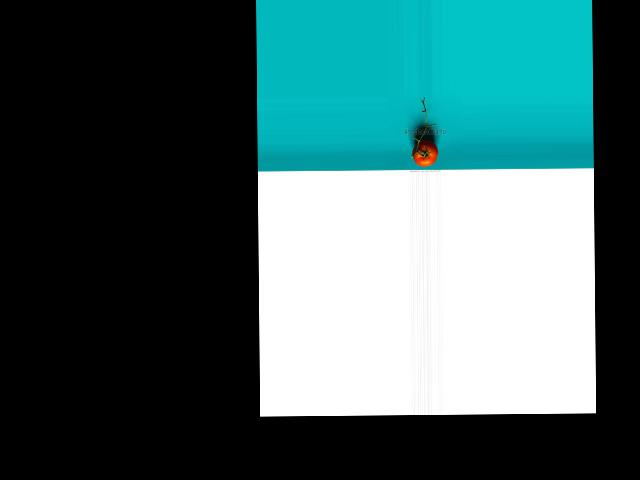tomato: (411, 140, 438, 166)
